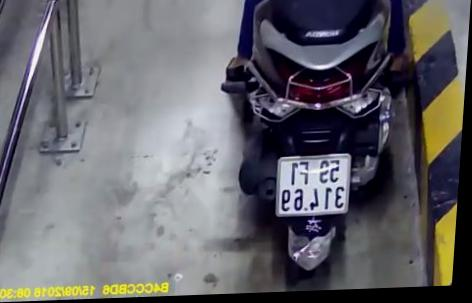License_Plate: (269, 149, 359, 222)
